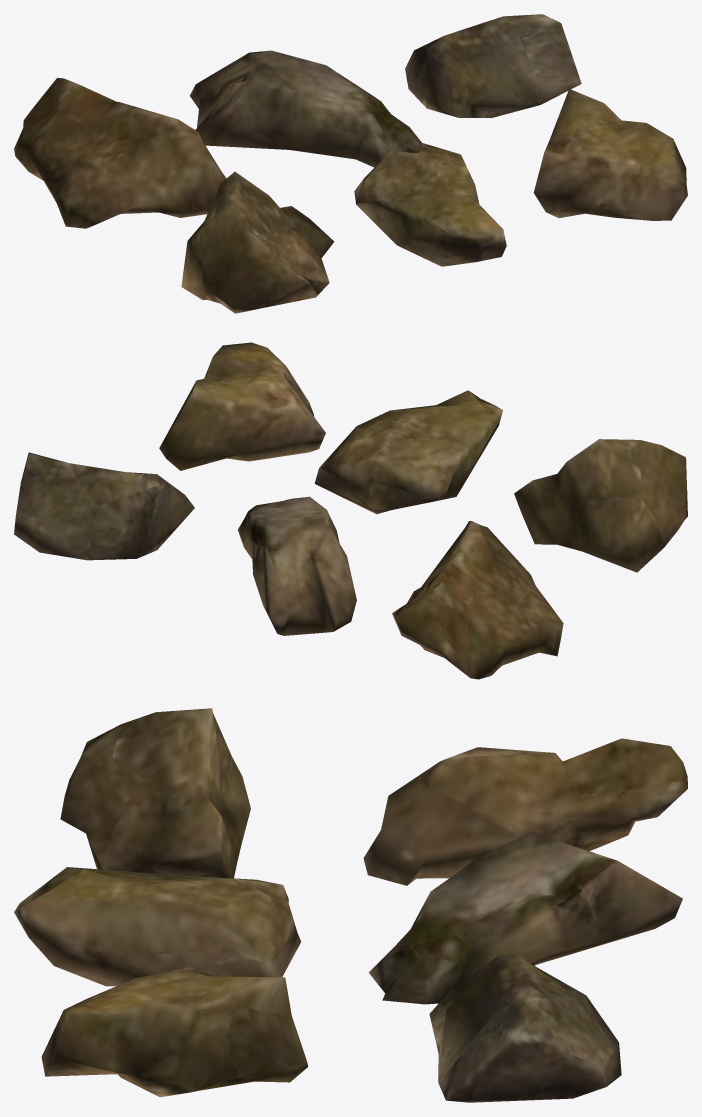
The model's file is mossy_rocks_low.glb.
3 renders of one model, top to bottom at view 1: azimuth 30°, elevation 25°; view 2: azimuth 150°, elevation 25°; view 3: azimuth 270°, elevation 25°, orthographic. The views are drawn at different scales.
Parts seen in each view (by area): view 1: rock_moss_set_01_rock01; view 2: rock_moss_set_01_rock01; view 3: rock_moss_set_01_rock01.
Part boxes in pixels (bbox=[...]): rock_moss_set_01_rock01: bbox=[14, 14, 687, 313]; rock_moss_set_01_rock01: bbox=[14, 342, 687, 679]; rock_moss_set_01_rock01: bbox=[14, 708, 687, 1102].
Size of the model in its own units: 7.95 by 1.75 by 6.91.
Materials: 1 (1 with a texture image).
